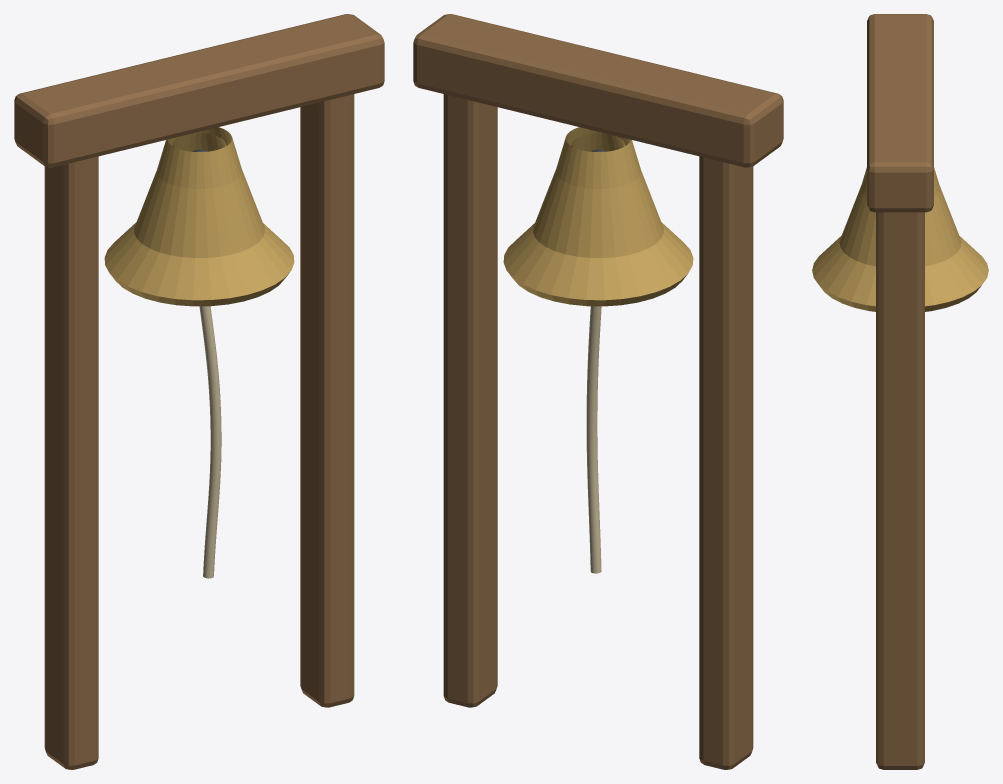
The model's file is village_bell.glb.
3 views of the same model, side by side, from view 1: azimuth 30°, elevation 25°; view 2: azimuth 150°, elevation 25°; view 3: azimuth 270°, elevation 25° (orthographic). The views are drawn at different scales.
Parts seen in each view (by area): view 1: BellPost, BellPost.001, Lintel, BellCup, BellRope; view 2: BellPost, BellPost.001, Lintel, BellCup, BellRope; view 3: BellPost.001, Lintel, BellCup.
Part boxes in pixels (x1,y1,x2,y2): BellPost: (44, 156, 98, 769); BellPost.001: (300, 94, 354, 707); Lintel: (14, 14, 384, 167); BellCup: (104, 127, 294, 306); BellRope: (199, 306, 221, 578); BellPost: (699, 156, 753, 769); BellPost.001: (443, 94, 497, 707); Lintel: (413, 14, 783, 167); BellCup: (503, 127, 693, 306); BellRope: (586, 306, 601, 573); BellPost.001: (876, 212, 924, 769); Lintel: (867, 14, 933, 212); BellCup: (812, 167, 988, 311).
Size of the model in its own units: 1.2 by 2.24 by 0.58.
